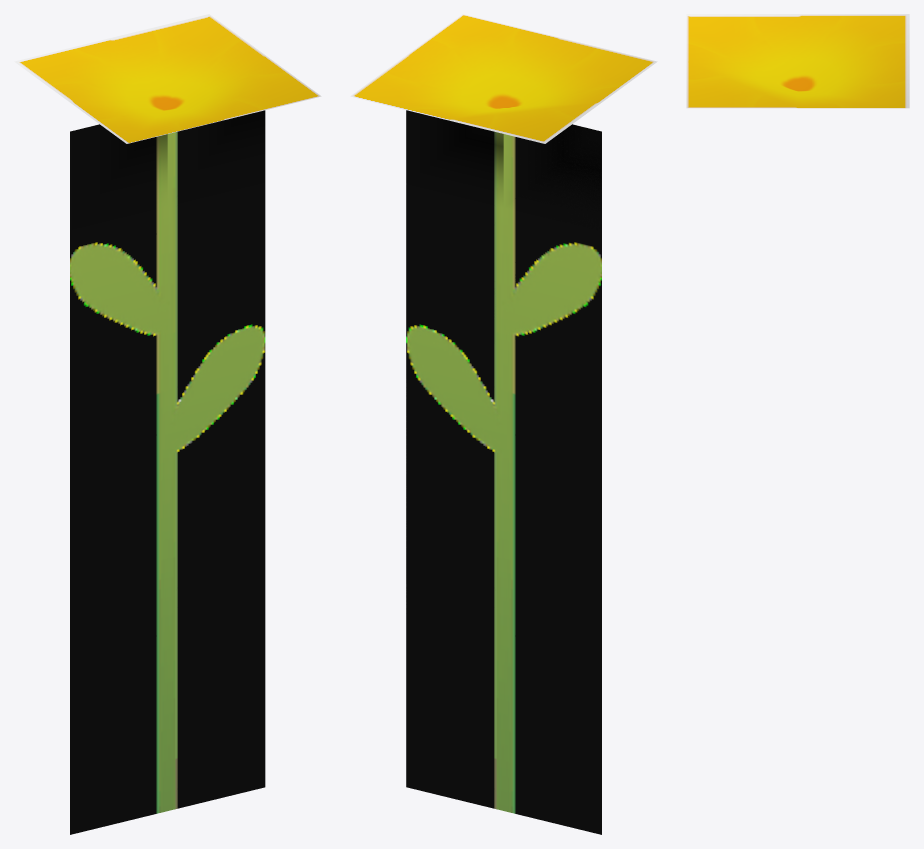
File: Flower_02.glb
3 views of the same model, side by side, from view 1: azimuth 30°, elevation 25°; view 2: azimuth 150°, elevation 25°; view 3: azimuth 270°, elevation 25° (orthographic).
Parts seen in each view (by area): view 1: Flower_02; view 2: Flower_02; view 3: Flower_02.
Boxes of the visible parts, left/top/right/bottom form: Flower_02: left=14, top=14, right=321, bottom=834; Flower_02: left=350, top=14, right=657, bottom=834; Flower_02: left=686, top=14, right=909, bottom=108.
Size of the model in its own units: 0.1053 by 0.376 by 0.1049.
Materials: 1 (1 with a texture image).
